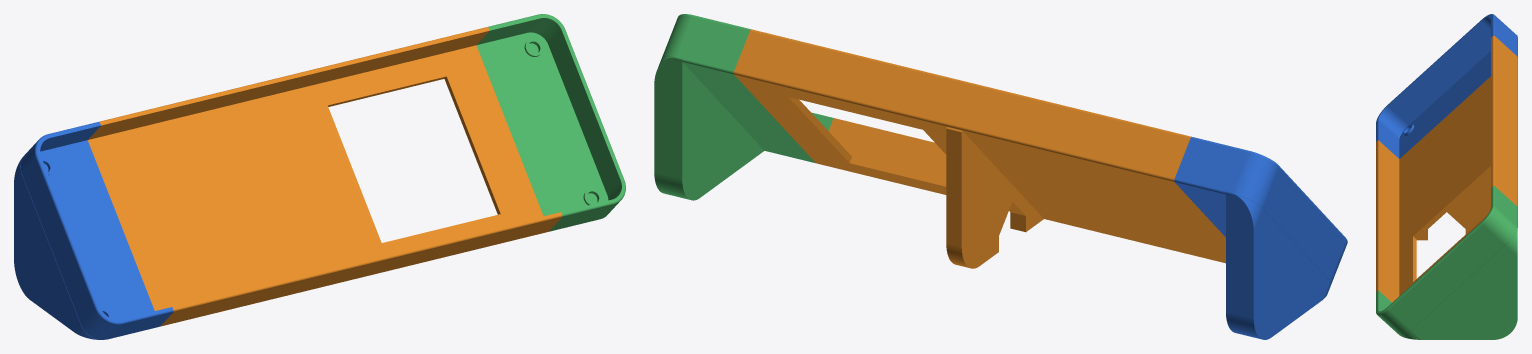
File: support_xeneon.glb
3 renders of one model, left to right at view 1: azimuth 30°, elevation 25°; view 2: azimuth 150°, elevation 25°; view 3: azimuth 270°, elevation 25°, orthographic. The views are drawn at different scales.
Parts seen in each view (by area): view 1: pied_centre, pied_gauche, pied_droite; view 2: pied_centre, pied_gauche, pied_droite; view 3: pied_centre, pied_droite, pied_gauche.
Part boxes in pixels (x1=…): pied_centre: x1=87, y1=27, x2=562, y2=326; pied_gauche: x1=14, y1=122, x2=173, y2=339; pied_droite: x1=476, y1=14, x2=625, y2=231; pied_centre: x1=733, y1=29, x2=1225, y2=268; pied_gauche: x1=1174, y1=137, x2=1347, y2=339; pied_droite: x1=654, y1=14, x2=833, y2=200; pied_centre: x1=1376, y1=35, x2=1517, y2=302; pied_droite: x1=1376, y1=186, x2=1517, y2=339; pied_gauche: x1=1376, y1=14, x2=1517, y2=158.
Bounding box in the file's own units: 0.3865 × 0.1119 × 0.1133.
